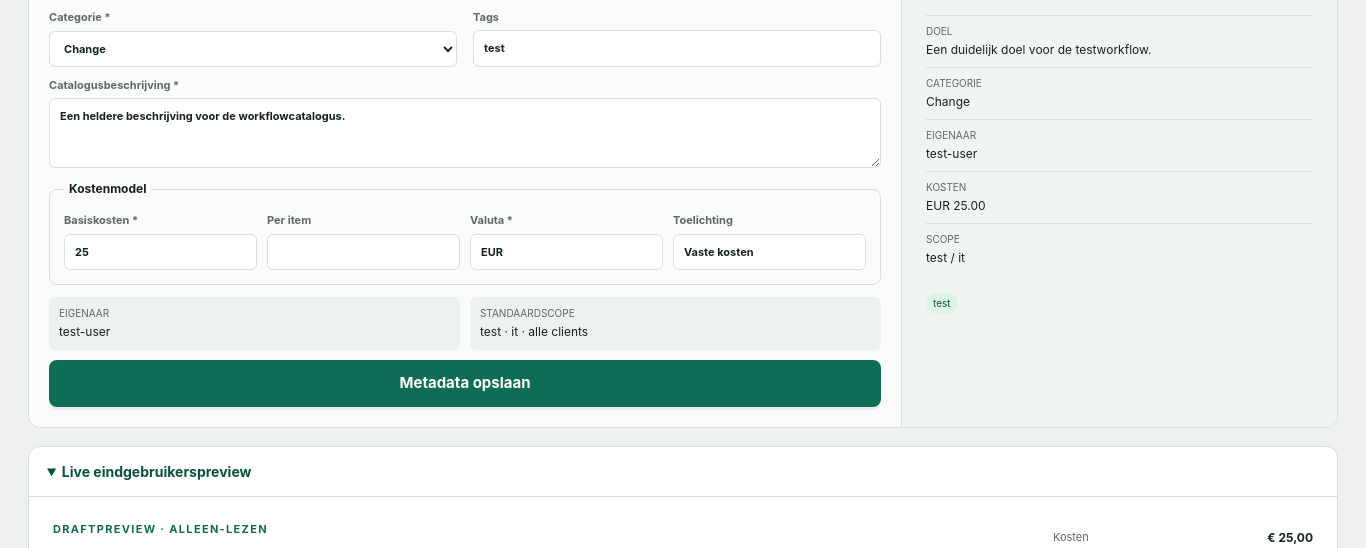
Scenario: WorkflowEditorShell › updates the read-only end-user preview directly from local draft changes
The image size is (1366, 548).
(page scrolled)
Replace the text in the number field labelled "Basiskosten *" with "40" at (160, 252), box top-left (64, 234), bottom-right (257, 270)
(page scrolled)
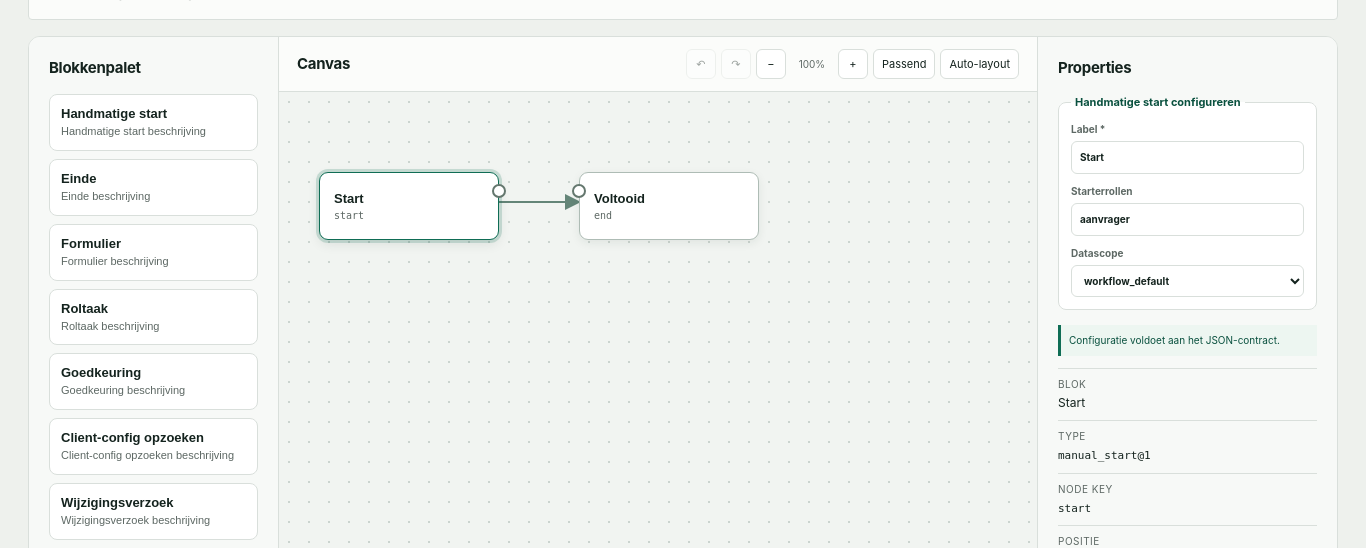
Click the button "Formulier Formulier beschrijving" at (154, 252), box top-left (49, 224), bottom-right (258, 280)
(page scrolled)
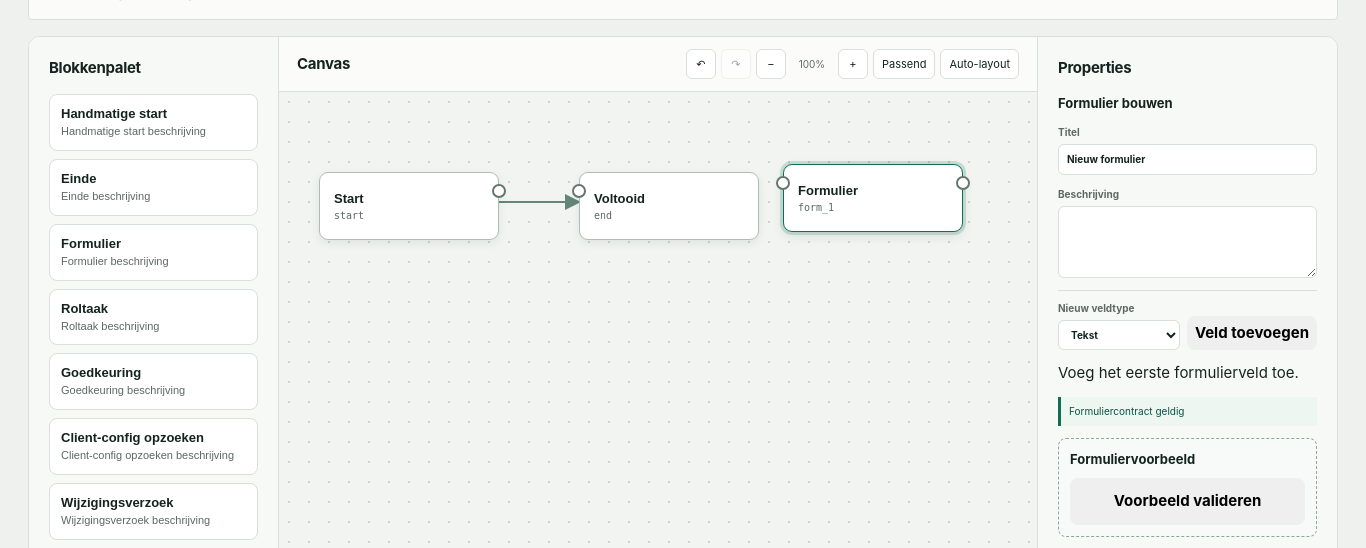
Replace the text in the field labelled "Titel" with "Actuele draftaanvraag" at (1188, 160), box top-left (1058, 144), bottom-right (1317, 176)
(page scrolled)
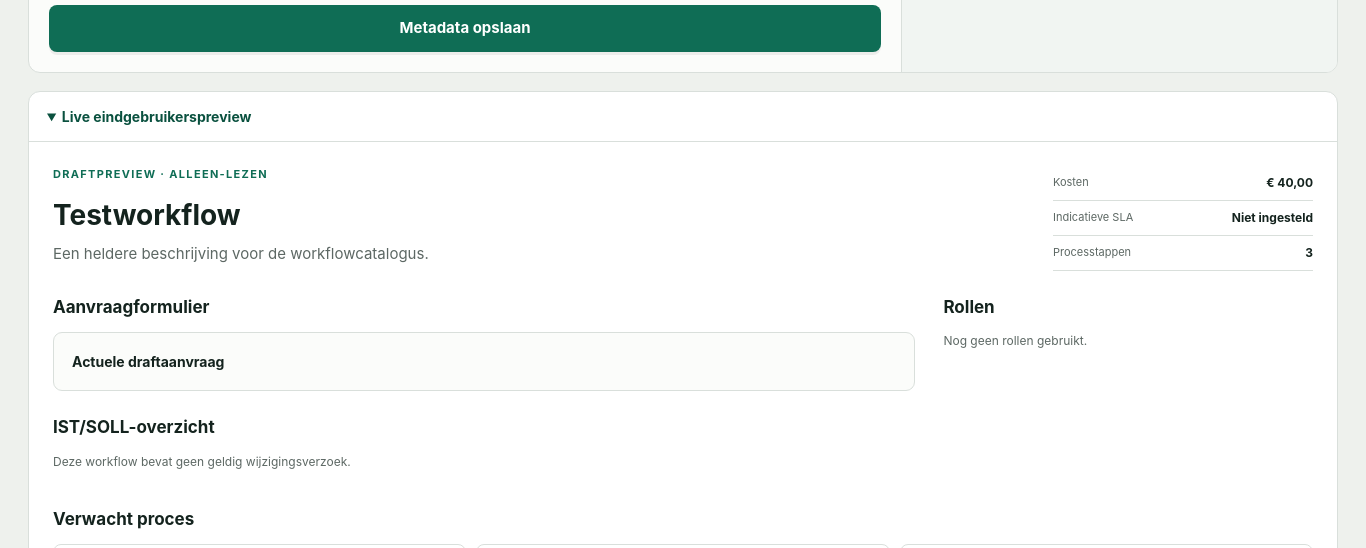
Result: the text "3" is shown at top-left (1305, 244), bottom-right (1313, 262)
Result: the heading "Actuele draftaanvraag" is shown at top-left (72, 353), bottom-right (224, 370)
